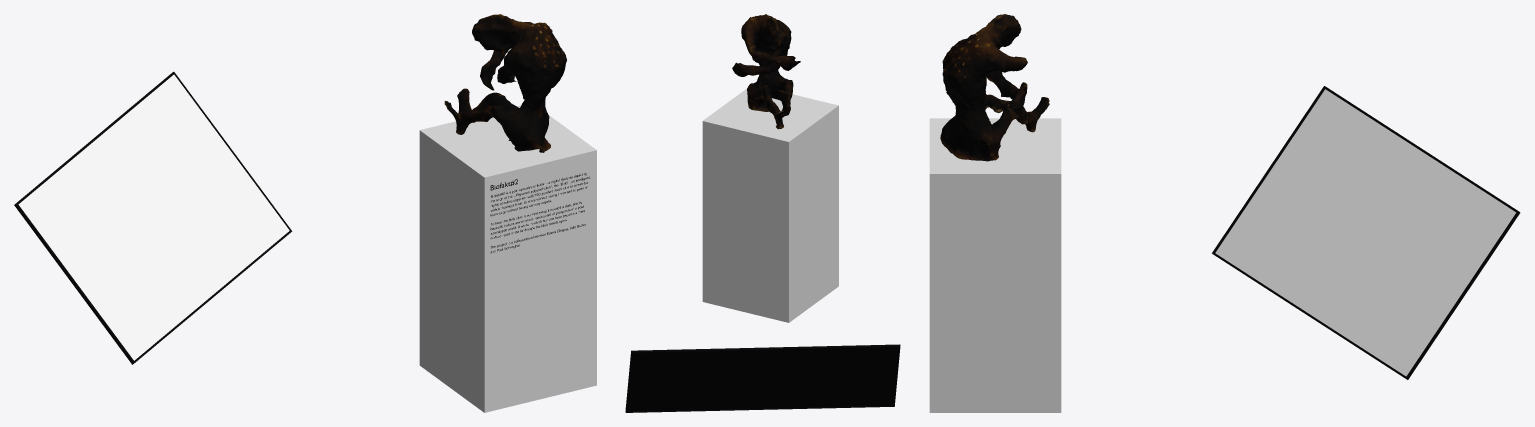
File: biofakt2.glb
3 views of the same model, side by side, from view 1: azimuth 30°, elevation 25°; view 2: azimuth 150°, elevation 25°; view 3: azimuth 270°, elevation 25° (orthographic). The views are drawn at different scales.
Parts seen in each view (by area): view 1: Cube, videotarget, Model, frame, Text; view 2: Cube, Cube.002, Model, frame; view 3: videotarget, Cube, Model, frame.
Part boxes in pixels (x1,y1,x2,y2): Cube: (419, 105, 596, 412); videotarget: (18, 74, 289, 360); Model: (444, 14, 566, 152); frame: (14, 72, 292, 364); Text: (490, 173, 589, 253); Cube: (702, 88, 838, 322); Cube.002: (627, 345, 900, 411); Model: (732, 14, 800, 129); frame: (625, 344, 900, 412); videotarget: (1215, 89, 1516, 376); Cube: (929, 118, 1061, 412); Model: (940, 14, 1049, 161); frame: (1212, 86, 1520, 379).
Bounding box in the file's own units: 2.48 × 2.22 × 3.23.
Materials: 7 (1 with a texture image).
